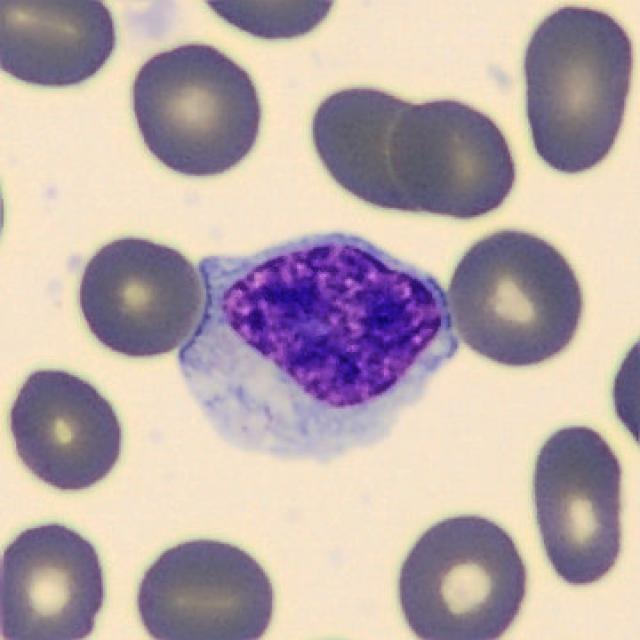Linfocito atipico: (180, 235, 457, 453)
